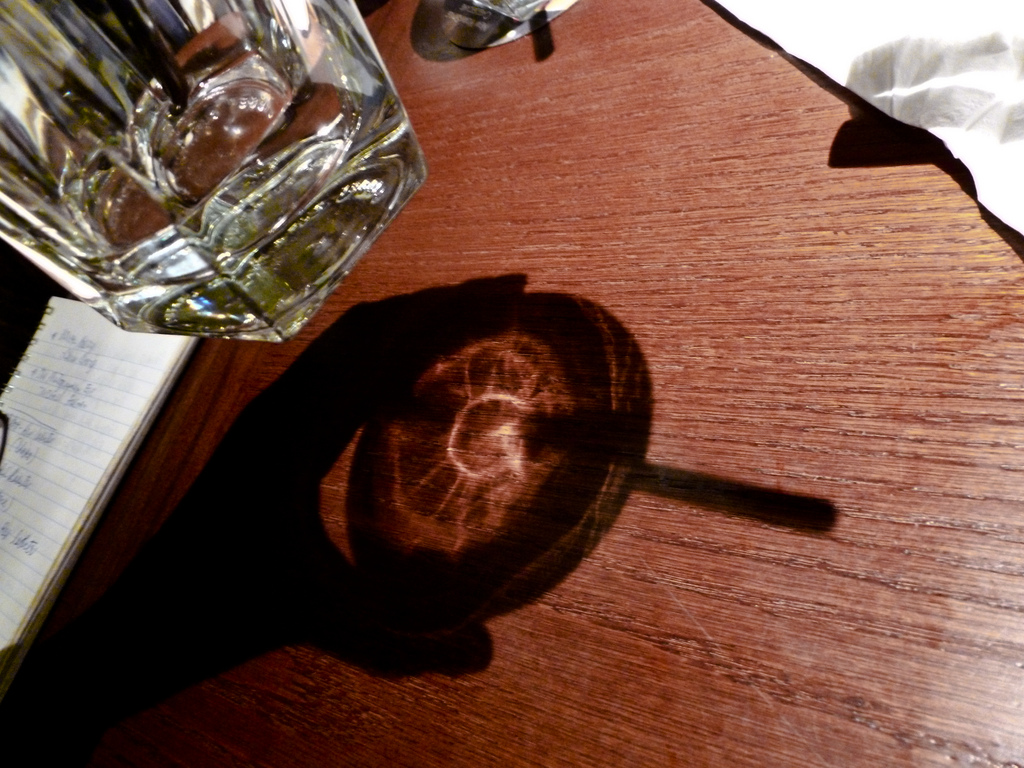glass of water: (1, 3, 466, 308)
